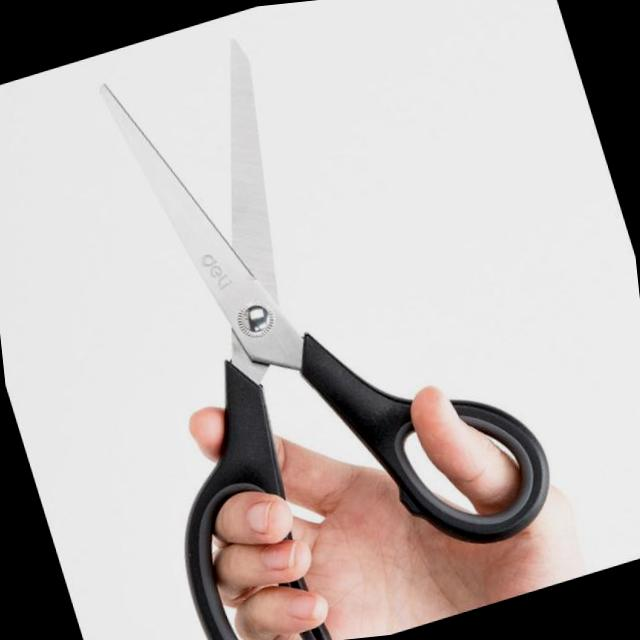scissors: (40, 0, 586, 640)
